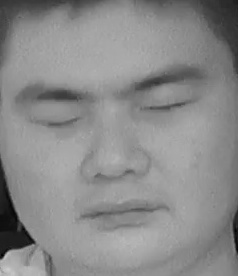blink: (142, 90, 198, 125), (36, 104, 84, 138)
mouth: (76, 186, 171, 234)
